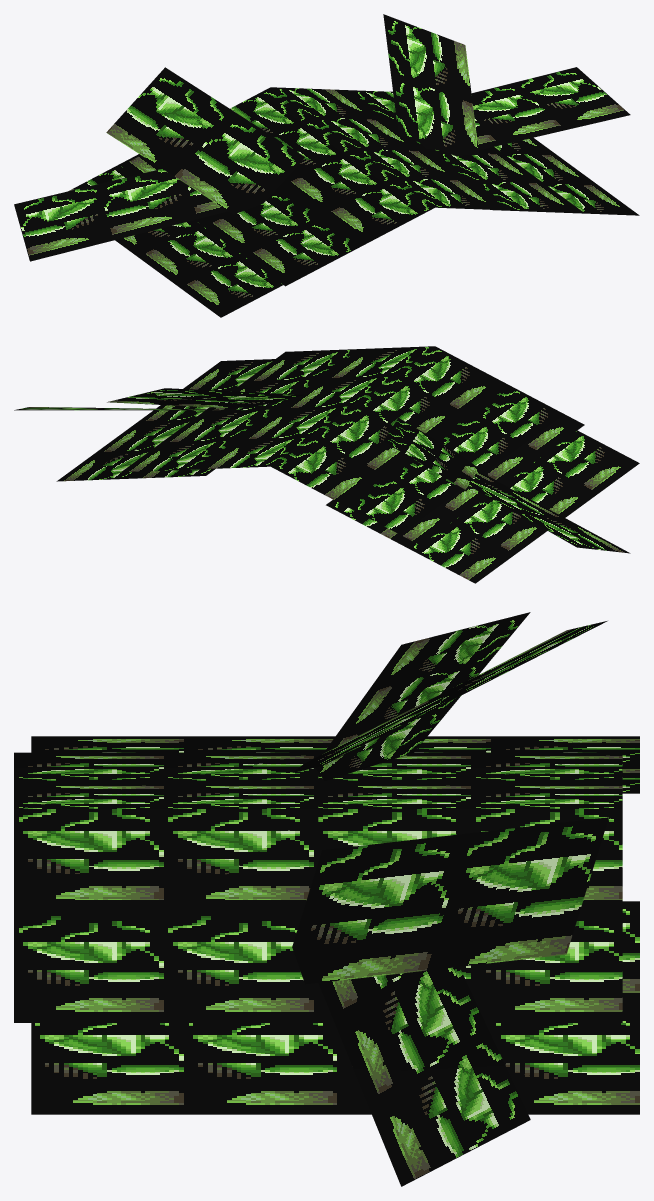
File: 2618_musi18.gltf
3 views of the same model, one above another, from view 1: azimuth 30°, elevation 25°; view 2: azimuth 150°, elevation 25°; view 3: azimuth 270°, elevation 25° (orthographic). The views are drawn at different scales.
Parts seen in each view (by area): view 1: 2618_musi18; view 2: 2618_musi18; view 3: 2618_musi18.
Part boxes in pixels (x1,y1,x2,y2): 2618_musi18: (14, 14, 639, 317); 2618_musi18: (14, 346, 639, 583); 2618_musi18: (14, 612, 639, 1186).
Bounding box in the file's own units: 0.3242 × 0.0576 × 0.1582.
Materials: 4 (4 with a texture image).
